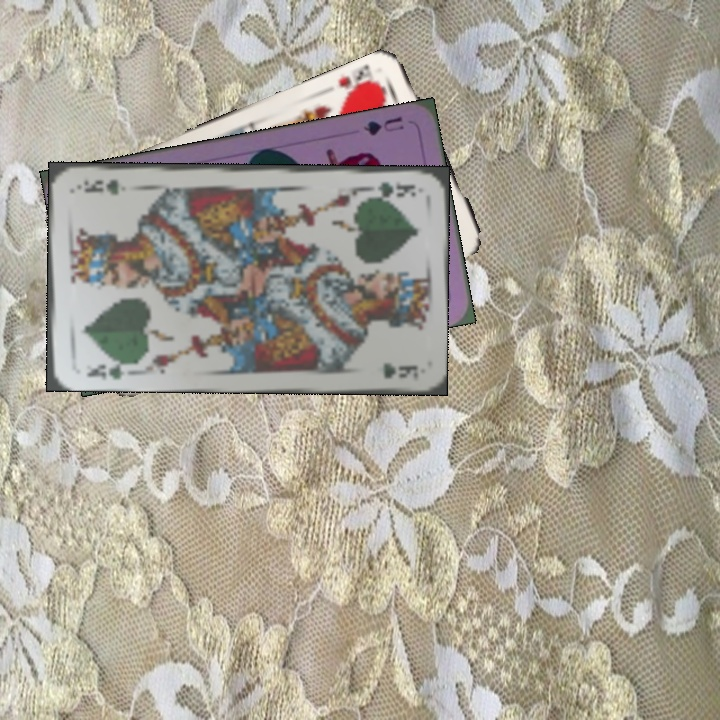GK: (82, 356, 131, 383), (363, 178, 419, 200)
GU: (359, 112, 406, 139)
HK: (334, 62, 382, 101)
